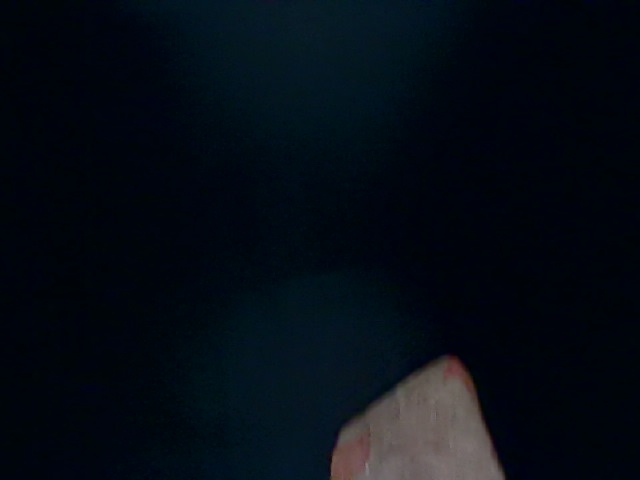KHSLJ: (1, 9, 262, 258)
